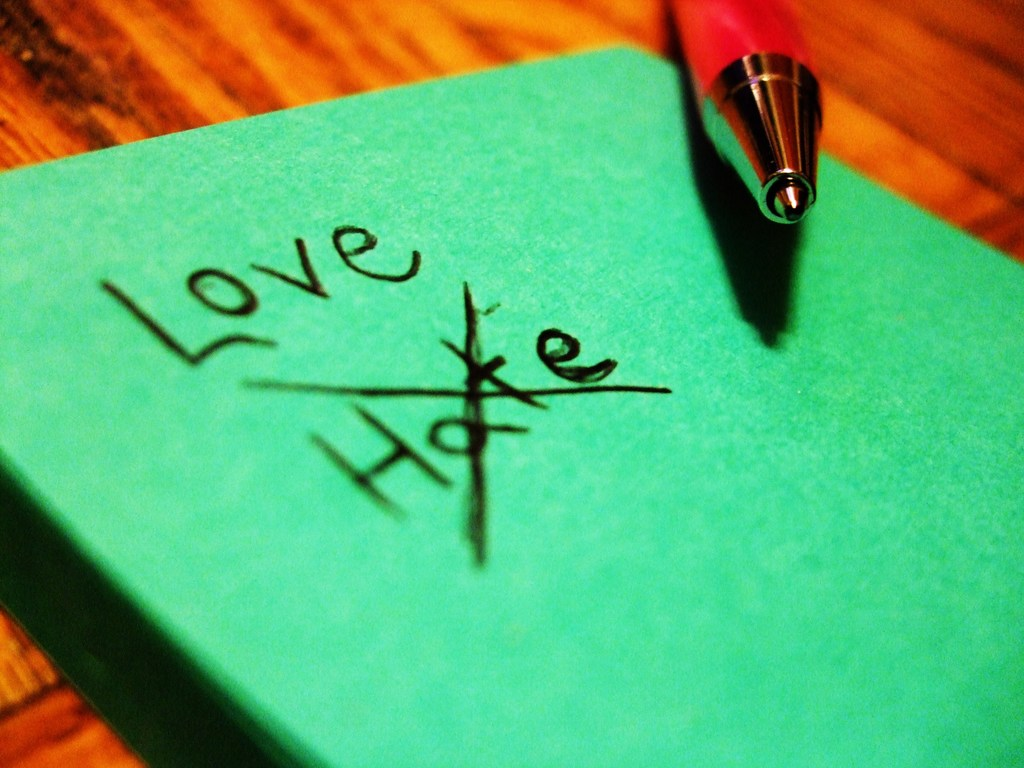Pen: (667, 0, 811, 235)
